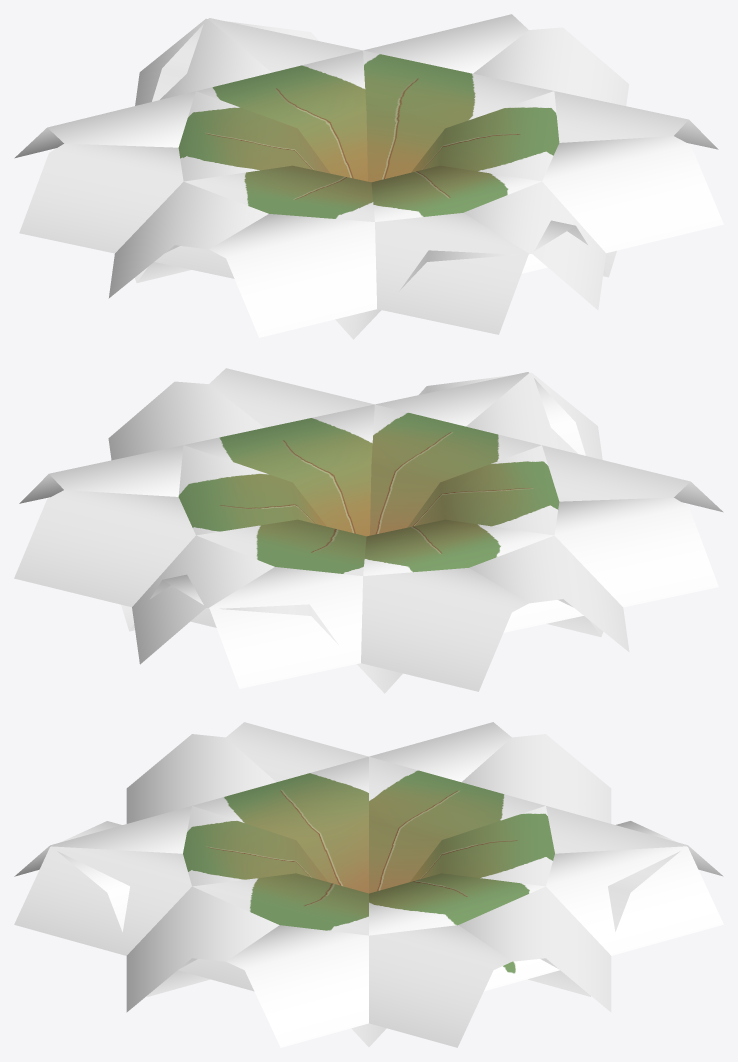
Rendered from leaf03.fbx.
3 renders of one model, top to bottom at view 1: azimuth 30°, elevation 25°; view 2: azimuth 150°, elevation 25°; view 3: azimuth 270°, elevation 25°, orthographic.
Visible parts, largest first — view 1: pPlane9; view 2: pPlane9; view 3: pPlane9.
Part boxes in pixels (<box>): pPlane9: <box>14,14,723,339</box>; pPlane9: <box>14,368,723,693</box>; pPlane9: <box>14,722,723,1047</box>.
Bounding box in the file's own units: 3.75 × 0.531 × 3.82.
1 material, 1 textured.
